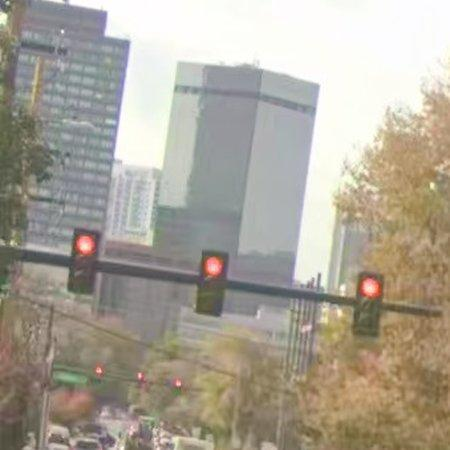traffic lights: (67, 226, 100, 293), (198, 251, 230, 319), (351, 270, 383, 336)
